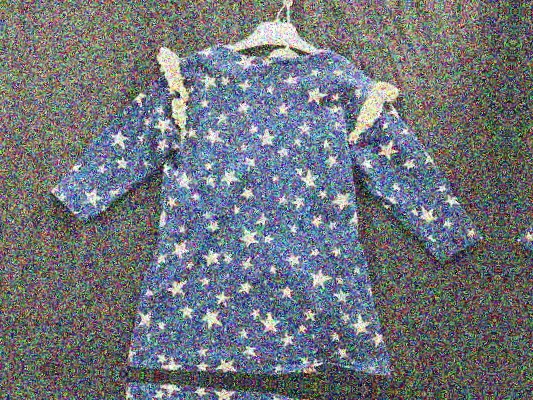Dress: (35, 3, 486, 393), (10, 373, 462, 400), (518, 35, 533, 400)
